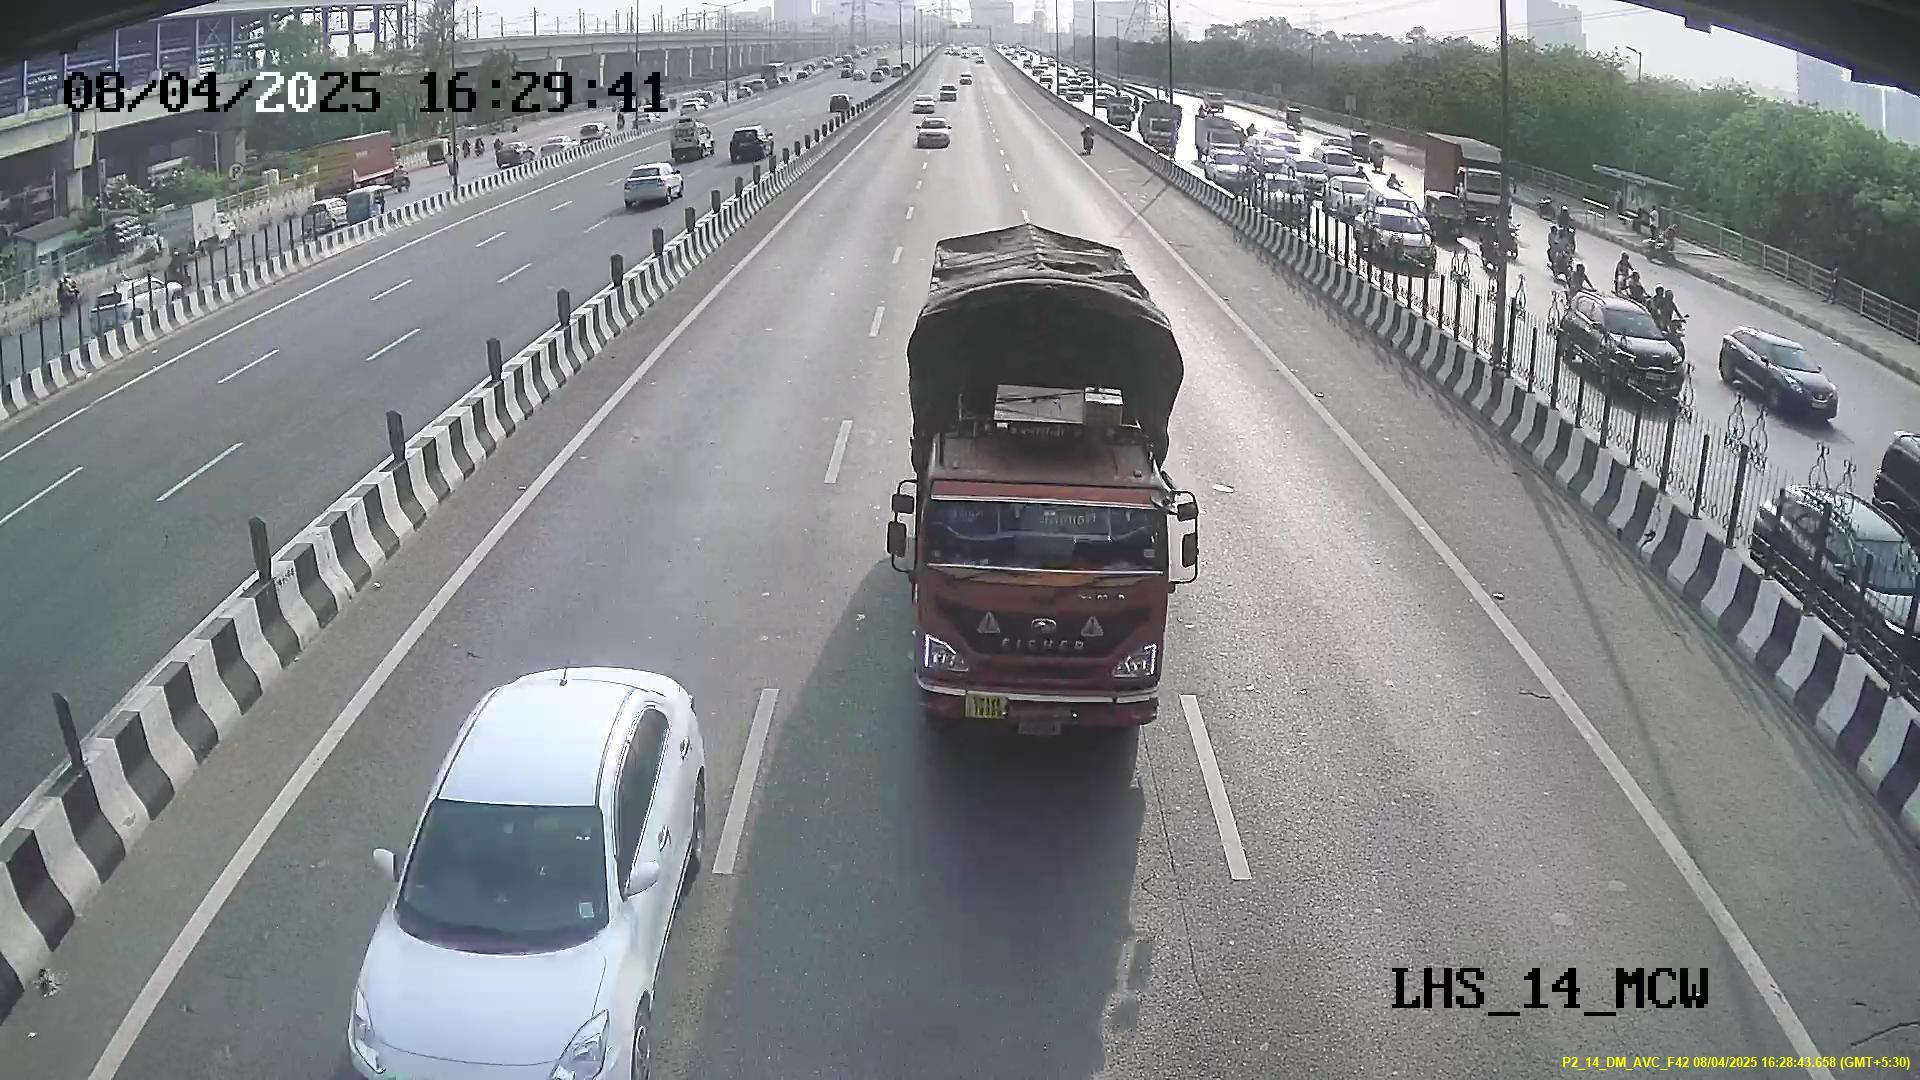lcv: (913, 451, 1172, 732)
